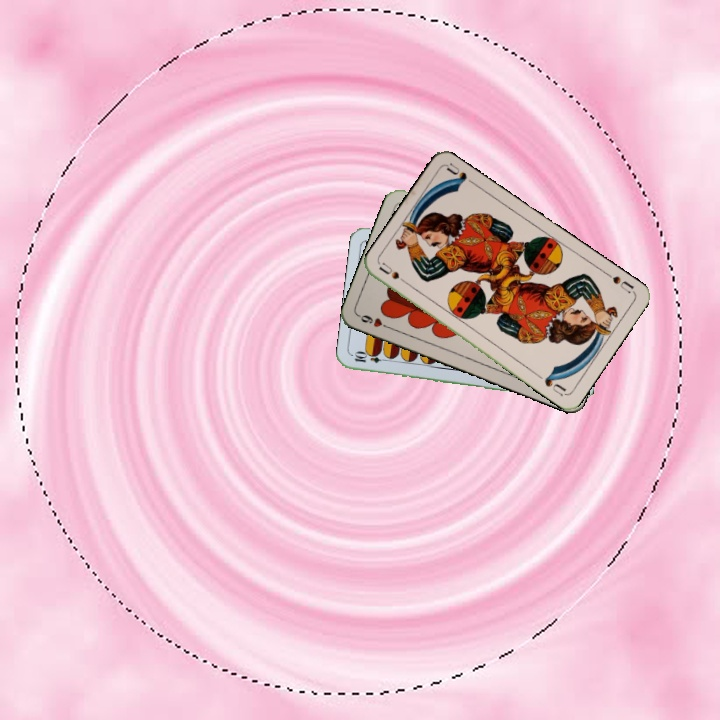E10: (351, 350, 391, 366)
H9: (355, 311, 394, 332)
SU: (375, 259, 413, 289), (601, 268, 636, 296)
